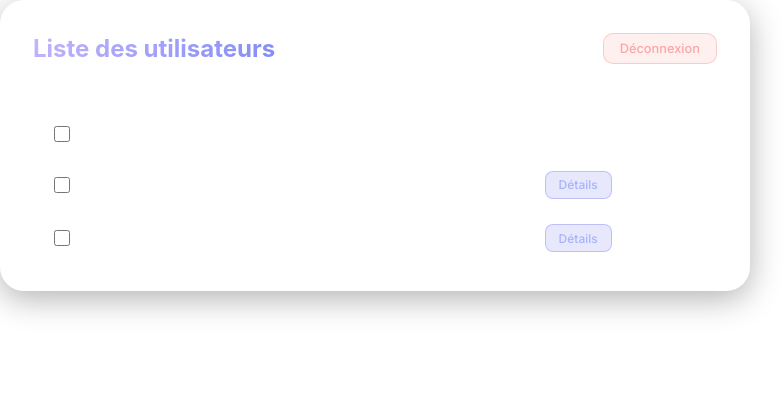
Test: UserList - mode admin (avec token) › supprime les utilisateurs sélectionnés après confirmation
The image size is (784, 412).
Click the checkbox with id "select-user-1" at coordinates (62, 185), box [54,177,70,193]
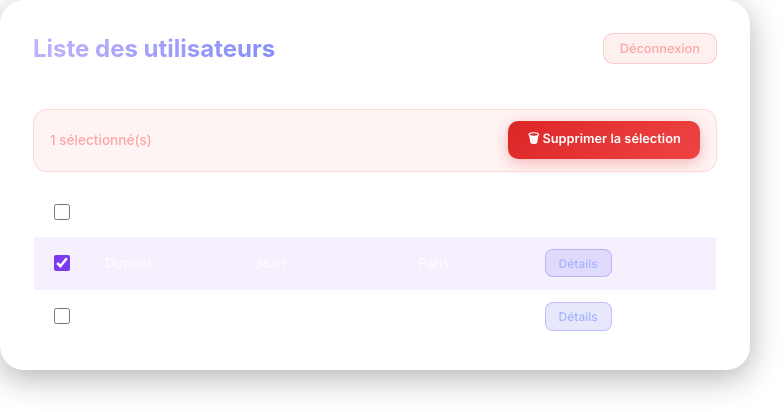
Click the button "🗑 Supprimer la sélection" at coordinates (604, 140), box [508,121,700,159]
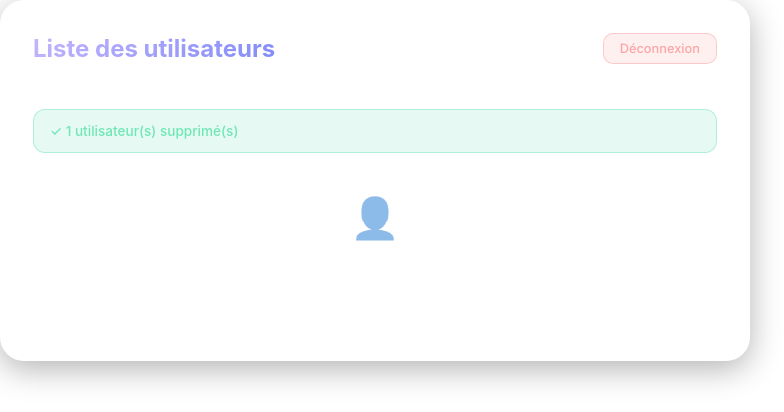
Check: the text "✓ 1 utilisateur(s) supprimé(s)" is shown, box [33,109,717,153]
